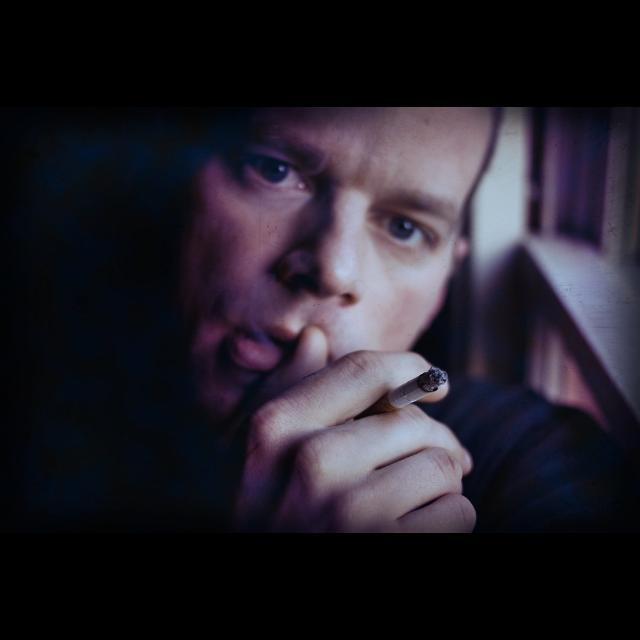rokok: (379, 360, 448, 408)
